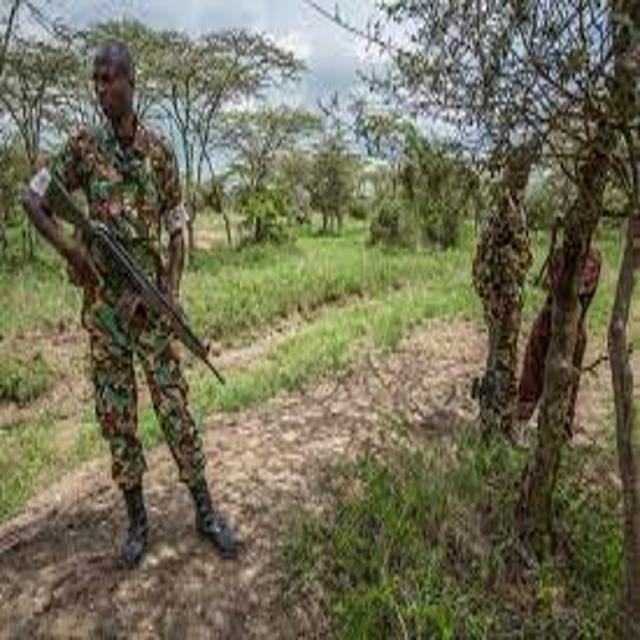gun: (6, 139, 249, 411)
ranger: (6, 17, 282, 587), (430, 124, 588, 462)
